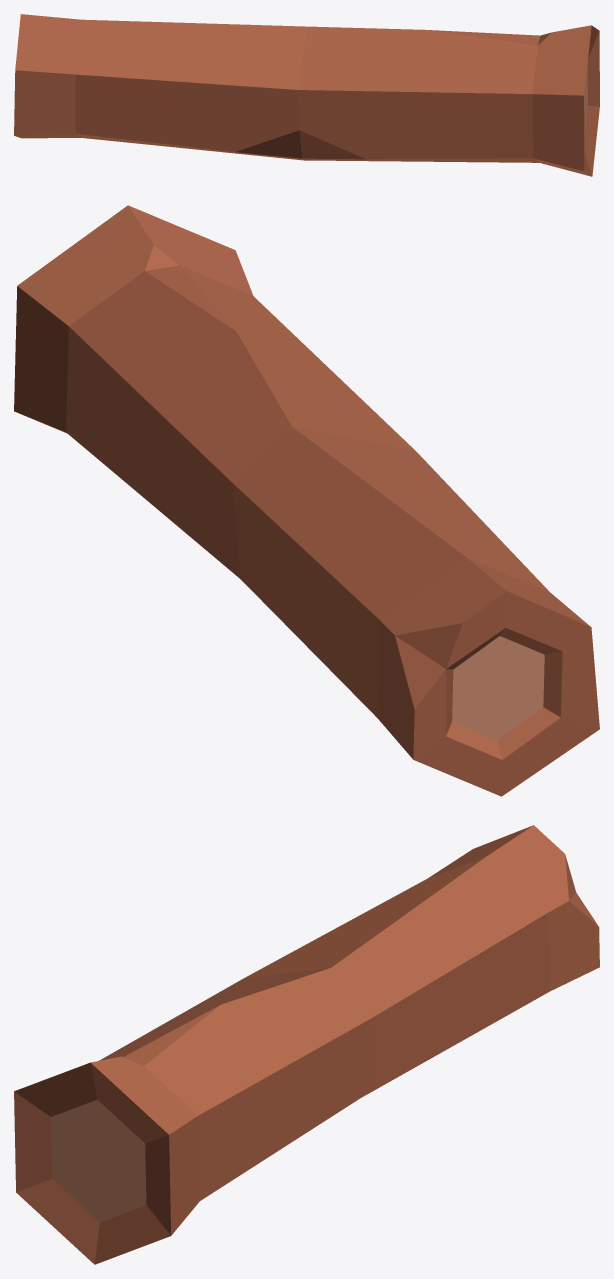
The model's file is log_cylinder.002_lev2.glb.
3 views of the same model, one above another, from view 1: azimuth 30°, elevation 25°; view 2: azimuth 150°, elevation 25°; view 3: azimuth 270°, elevation 25° (orthographic). The views are drawn at different scales.
Parts seen in each view (by area): view 1: log_cylinder.002_lev2; view 2: log_cylinder.002_lev2; view 3: log_cylinder.002_lev2.
Part boxes in pixels (x1=…): log_cylinder.002_lev2: x1=14, y1=14, x2=599, y2=176; log_cylinder.002_lev2: x1=14, y1=205, x2=599, y2=796; log_cylinder.002_lev2: x1=14, y1=825, x2=599, y2=1264.
Size of the model in its own units: 1.7 by 0.5279 by 1.4.
